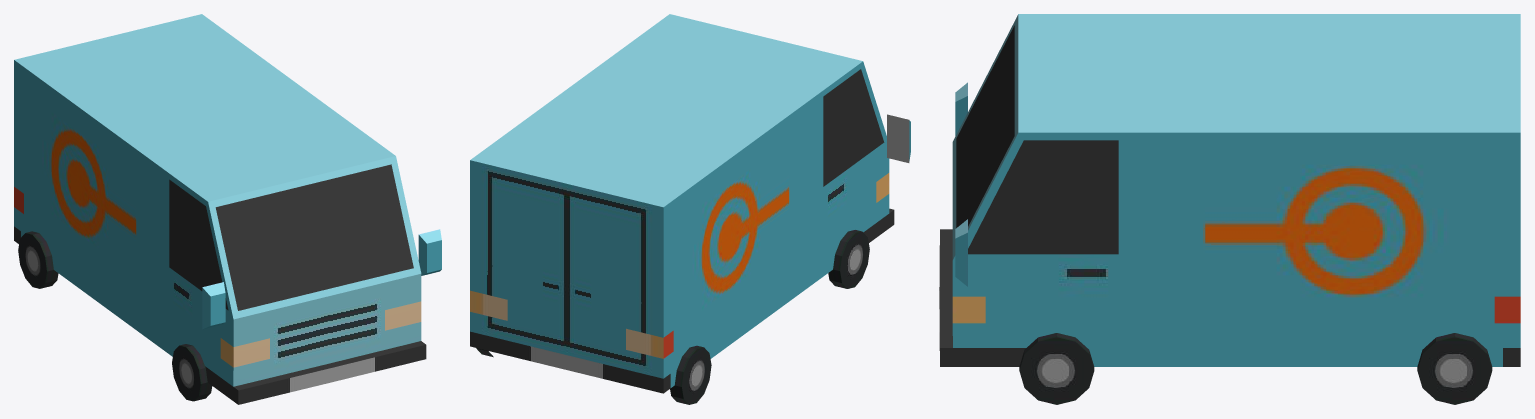
File: van_mesh_blue.gltf
The picture shows the model from 3 angles, left to right: view 1: azimuth 30°, elevation 25°; view 2: azimuth 150°, elevation 25°; view 3: azimuth 270°, elevation 25°; orthographic projection. The views are drawn at different scales.
Parts seen in each view (by area): view 1: van_mesh_blue; view 2: van_mesh_blue; view 3: van_mesh_blue.
Part boxes in pixels (x1,y1,x2,y2): van_mesh_blue: (14,14,441,404); van_mesh_blue: (470,14,910,404); van_mesh_blue: (939,14,1520,404).
Size of the model in its own units: 3.44 by 2.86 by 5.62.
Materials: 1 (1 with a texture image).
